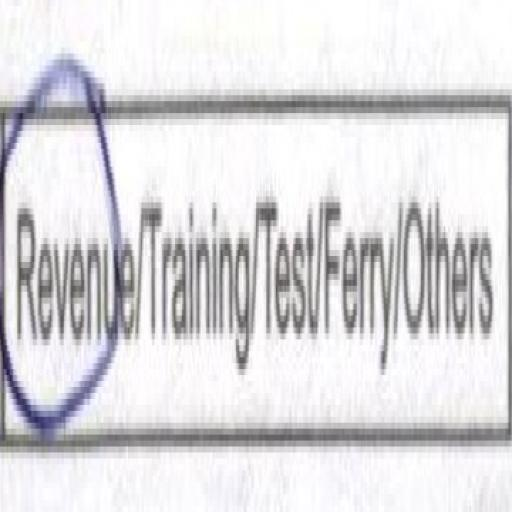check: (0, 30, 142, 482)
